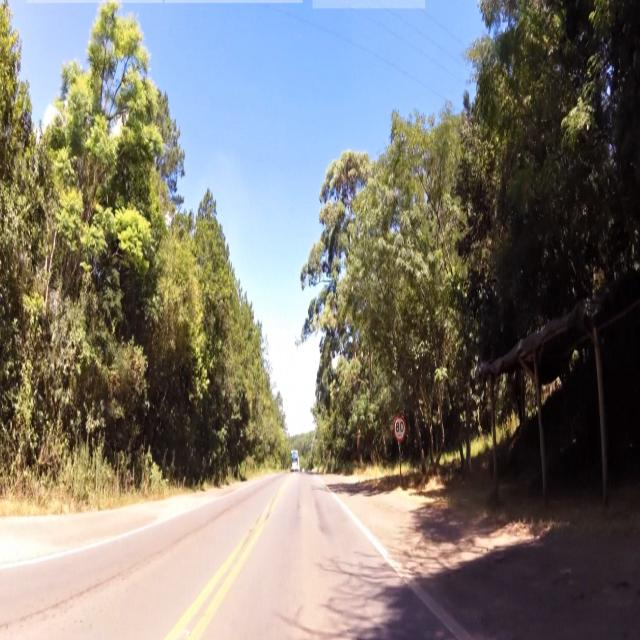R-19: (394, 415, 406, 443)
